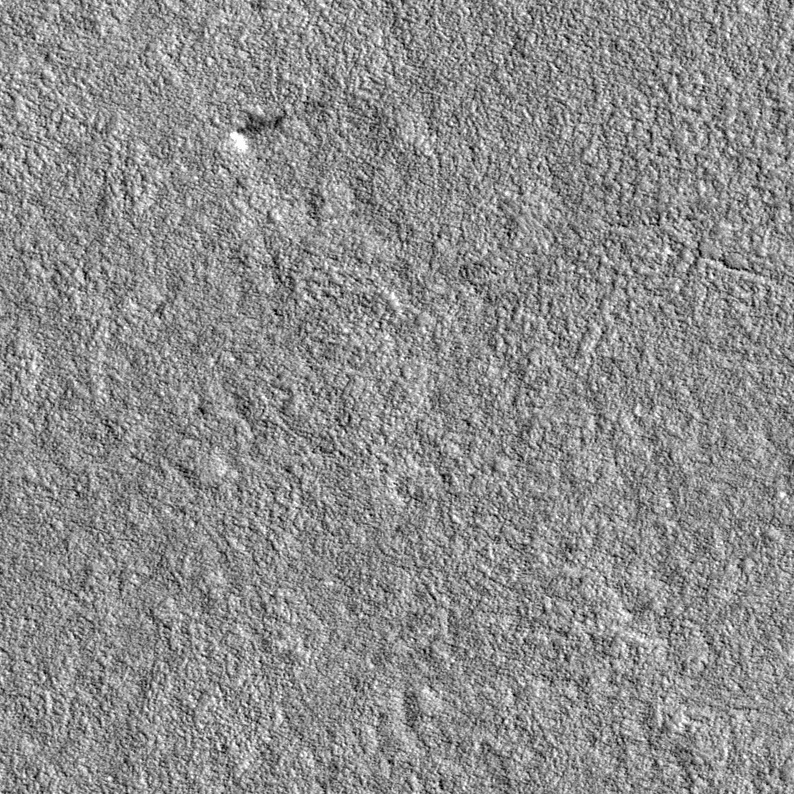dust_devil: (227, 113, 290, 155)
